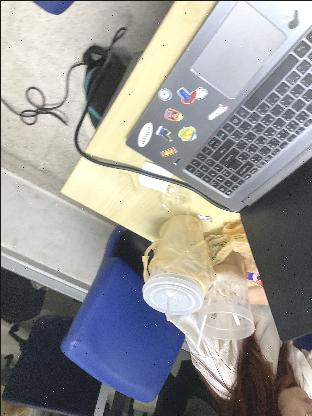Others: (140, 210, 218, 292), (198, 254, 254, 344), (202, 220, 266, 292), (139, 273, 203, 319), (134, 158, 172, 194), (194, 282, 214, 346), (157, 186, 195, 214), (222, 287, 240, 325), (162, 292, 174, 321)
